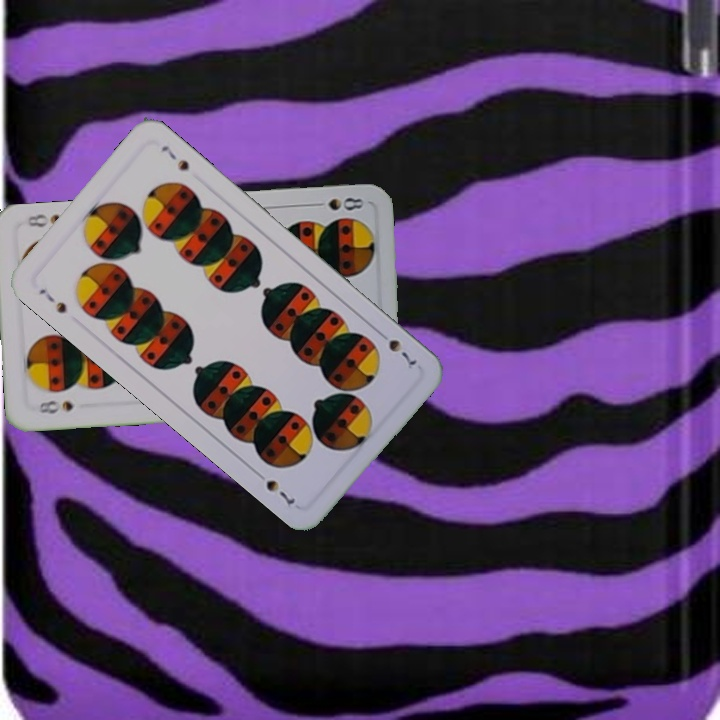S7: (373, 326, 420, 368), (34, 284, 70, 316)
S8: (307, 193, 367, 213), (34, 396, 77, 416)
